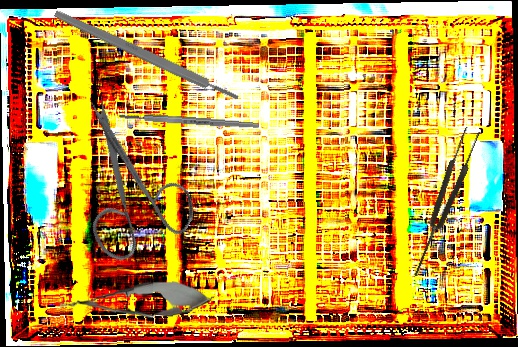Iris Scissors: (27, 92, 224, 284)
Micro Scissor: (53, 277, 216, 325)
Scalpel Handle: (52, 8, 241, 104), (118, 112, 260, 130)
Tissue Forceps: (405, 125, 483, 280)
